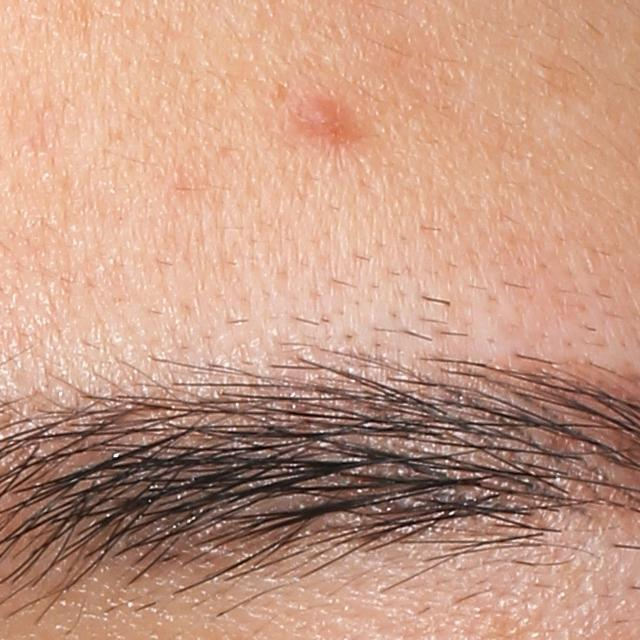papule: (295, 94, 354, 144)
